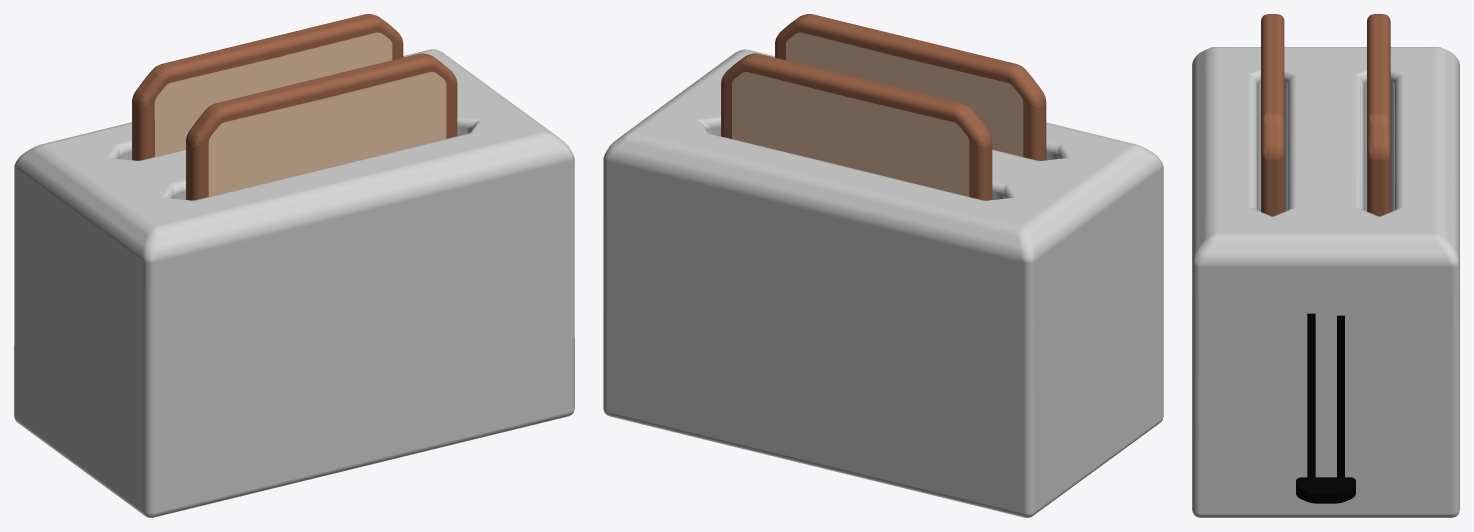
File: bread_grill.fbx
3 renders of one model, left to right at view 1: azimuth 30°, elevation 25°; view 2: azimuth 150°, elevation 25°; view 3: azimuth 270°, elevation 25°, orthographic.
Parts seen in each view (by area): view 1: grille, bread_2, bread_1; view 2: grille, bread_1, bread_2; view 3: grille, bread_2, bread_1, strokes, button.
Part boxes in pixels (left/top/right/bottom): grille: left=14, top=49, right=574, bottom=517; bread_2: left=186, top=53, right=457, bottom=200; bread_1: left=132, top=14, right=403, bottom=160; grille: left=603, top=49, right=1163, bottom=517; bread_1: left=721, top=53, right=992, bottom=200; bread_2: left=775, top=14, right=1046, bottom=160; grille: left=1192, top=47, right=1459, bottom=517; bread_2: left=1261, top=14, right=1284, bottom=216; bread_1: left=1367, top=14, right=1390, bottom=216; strokes: left=1307, top=313, right=1344, bottom=477; button: left=1296, top=477, right=1355, bottom=503.
Bounding box in the file's own units: 1771 × 1306 × 898.
